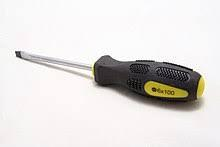screwdriver: (13, 47, 204, 103)
